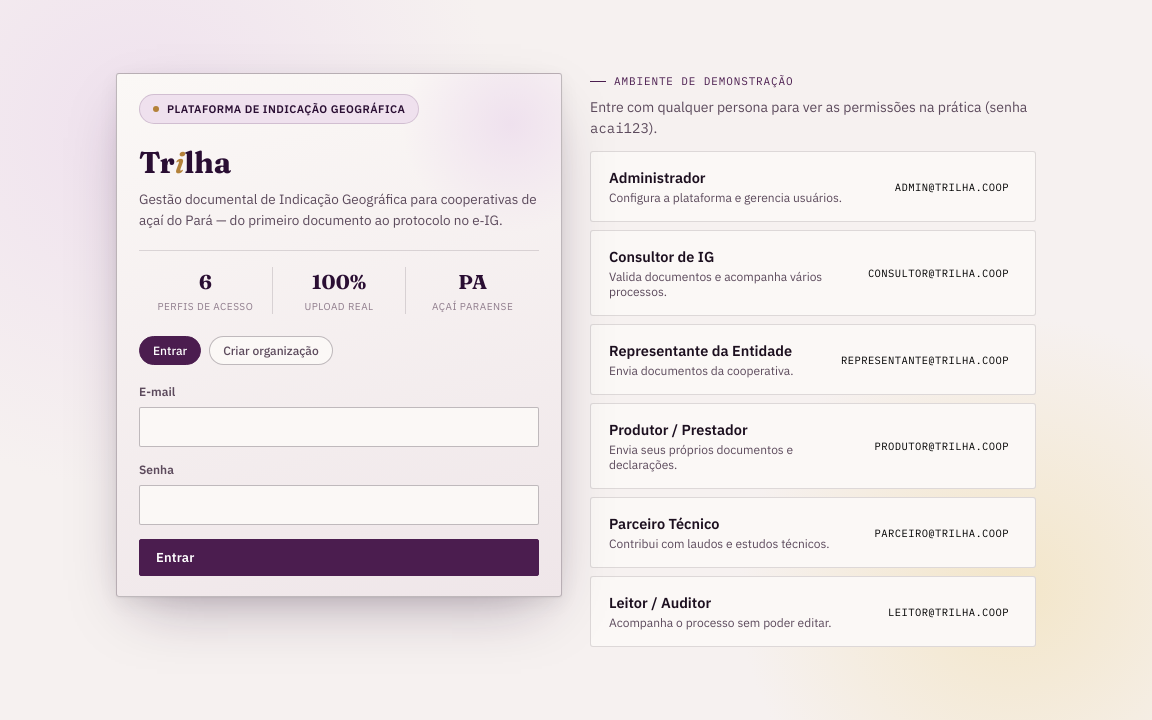
Test: Processos › admin cria um novo processo e navega até a esteira dele
Click the text "admin@trilha.coop".
click(952, 187)  # box [887,177,1017,197]
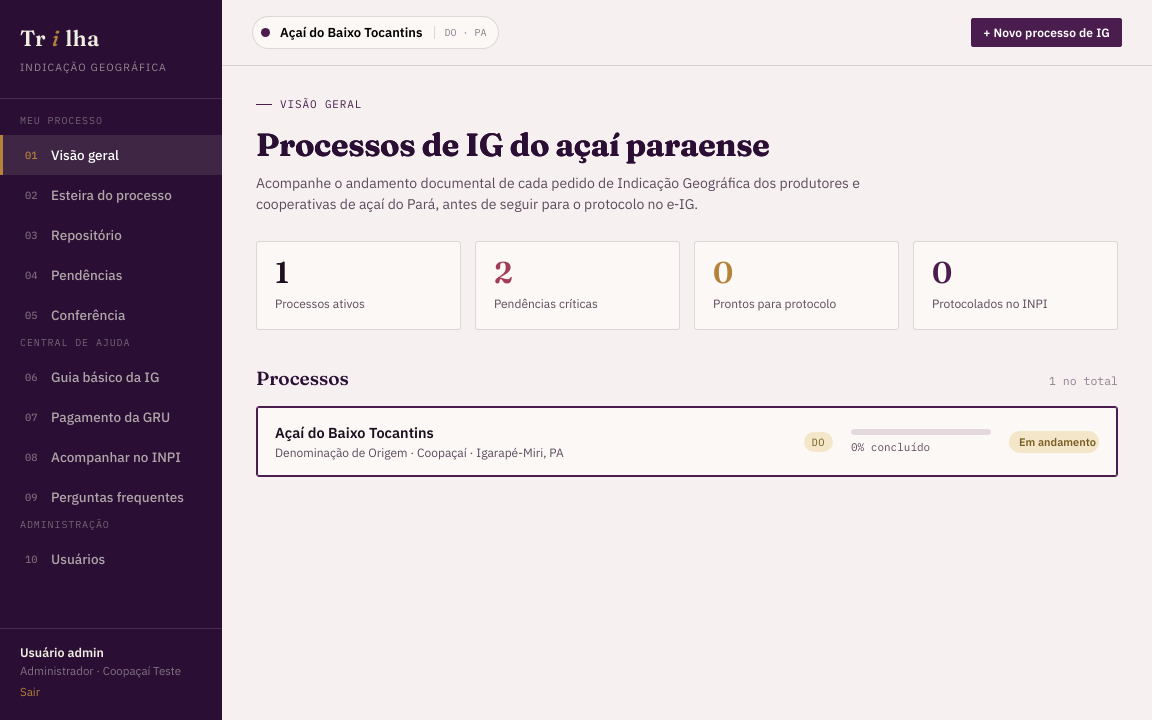
Click the button "+ Novo processo de IG".
click(1047, 32)  # box [971,18,1122,47]
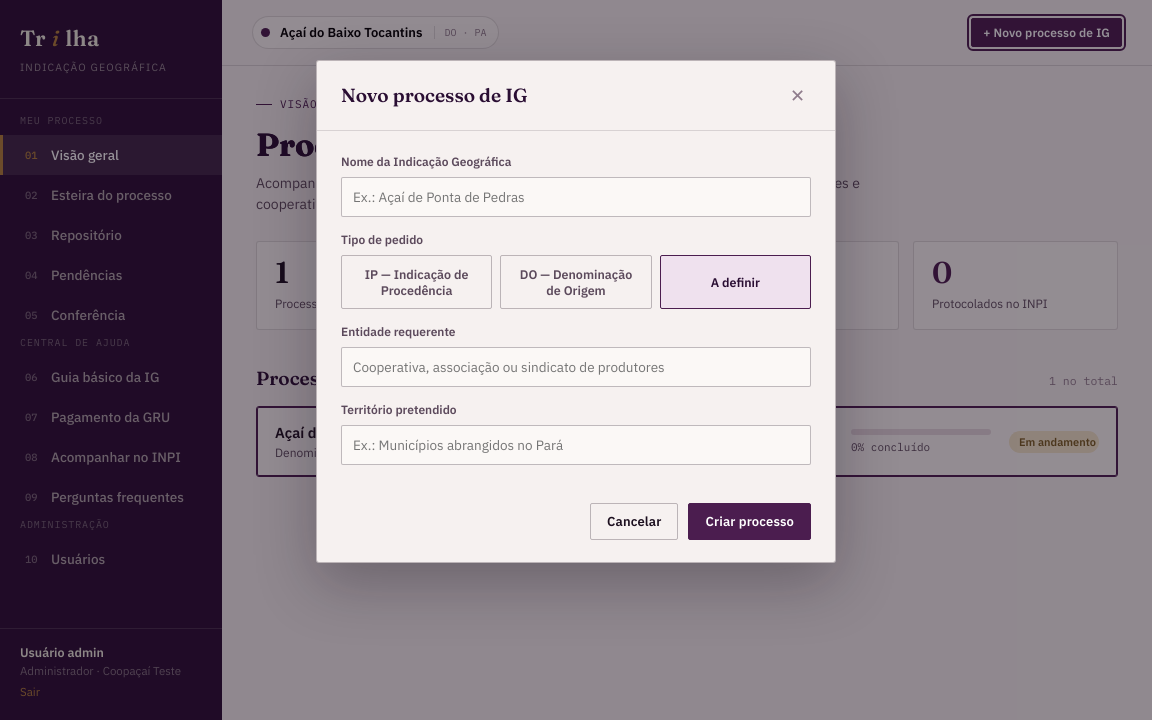
Type "Açaí de Breves" into the field labelled "Nome da Indicação Geográfica".
click(576, 196); type("Açaí de Breves")  # box [341,176,811,216]
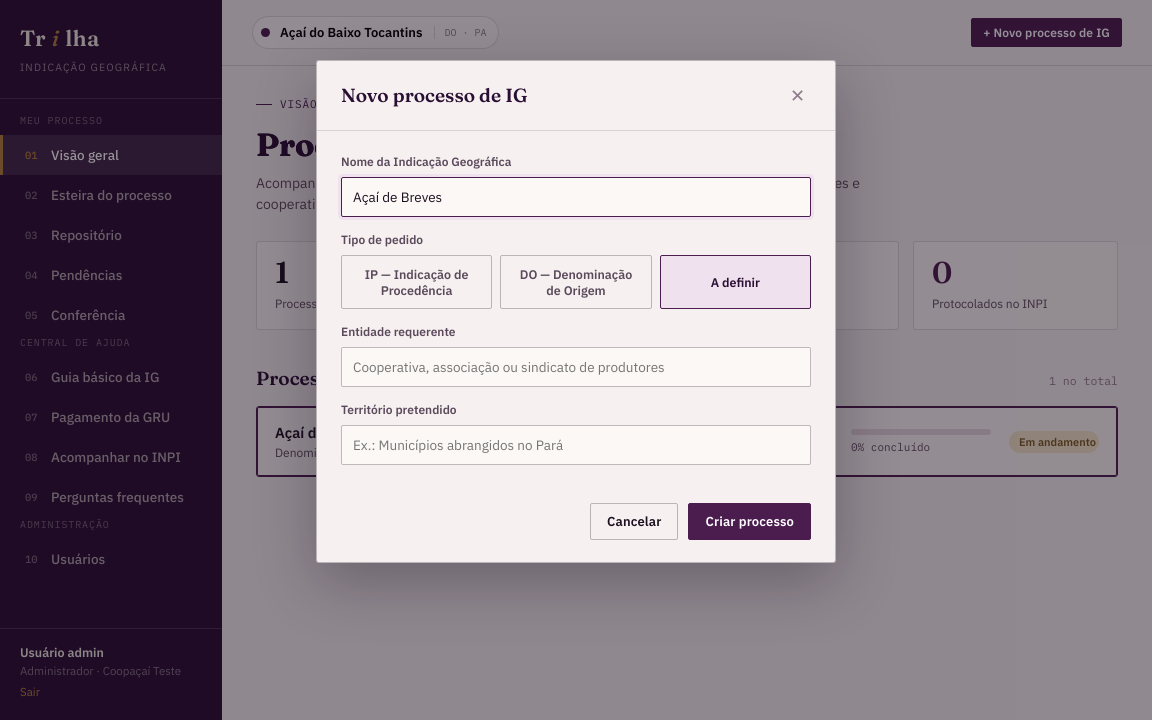
Type "Coop. de Breves" into the field labelled "Entidade requerente".
click(576, 366); type("Coop. de Breves")  # box [341,346,811,386]
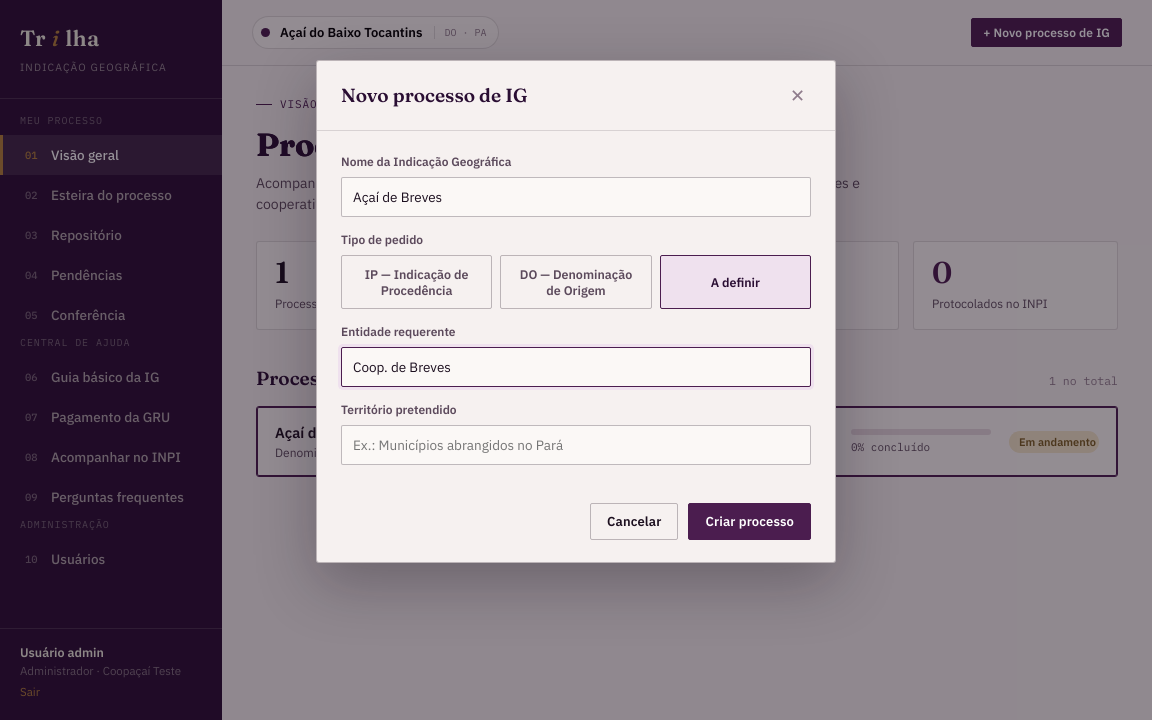
Type "Breves, PA" into the field labelled "Território pretendido".
click(576, 444); type("Breves, PA")  # box [341,424,811,464]
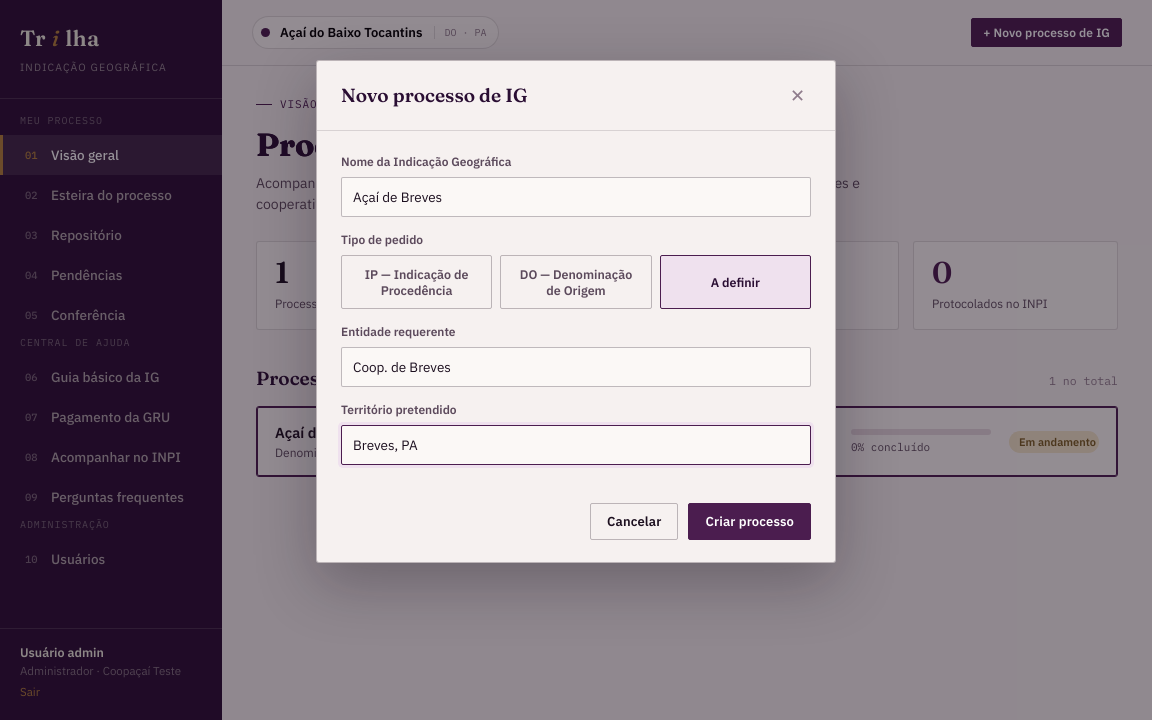
Click the button "Criar processo".
click(750, 521)  # box [688,502,811,540]
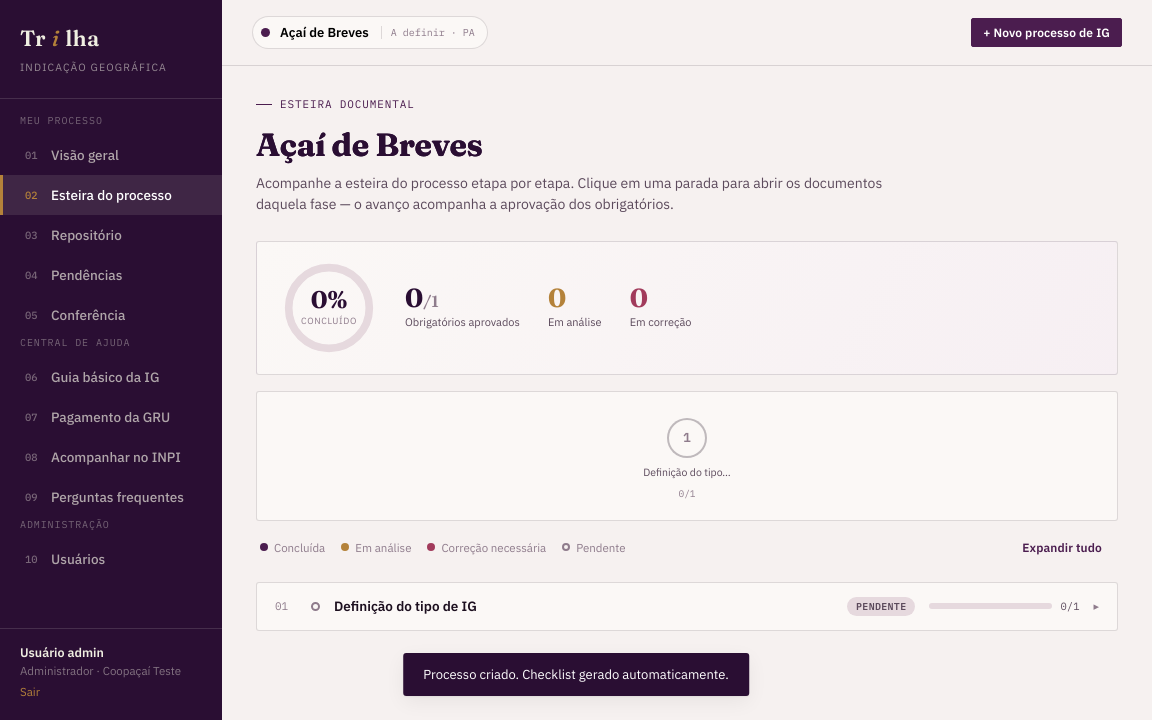
Expected: the heading "Açaí de Breves" is shown, [256,120,1118,168]
